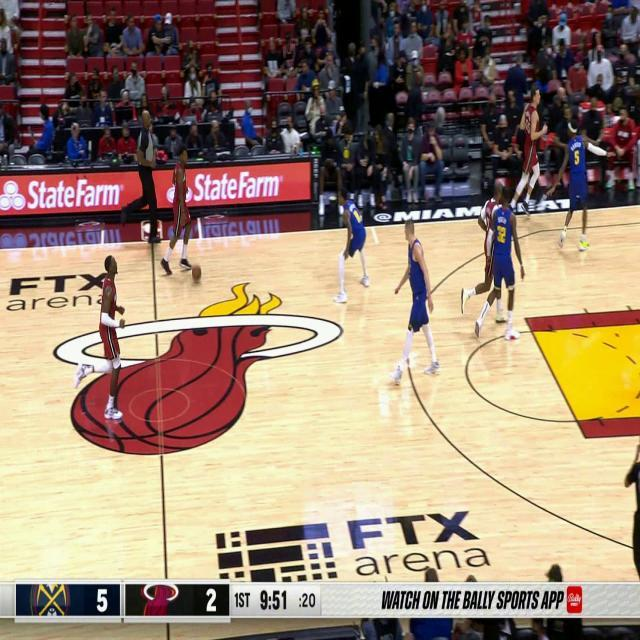rim: (192, 263, 202, 282)
